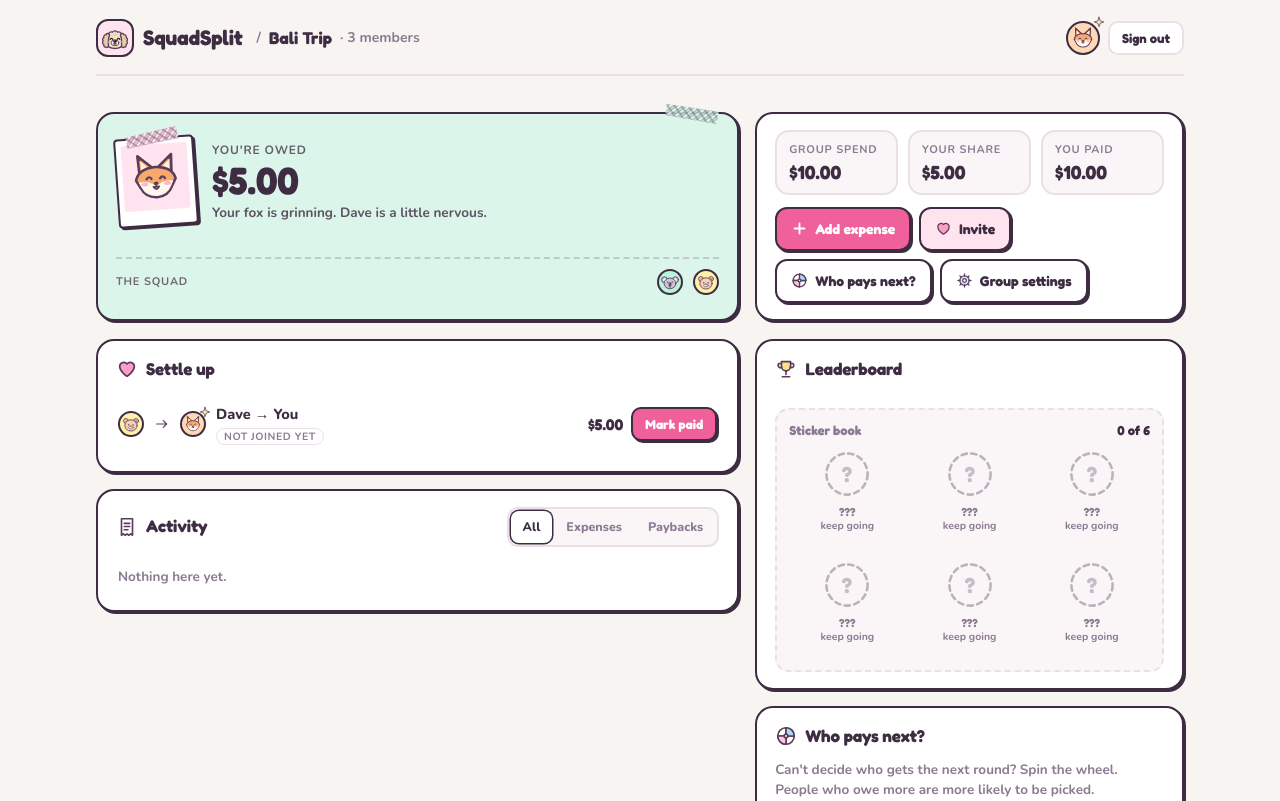
Test: Your mix with someone who has not joined › celebrates recording that they paid you, and stamps the new payback in the feed
Click the button "Mark paid" at x=674, y=424, box left=631, top=407, right=717, bottom=441
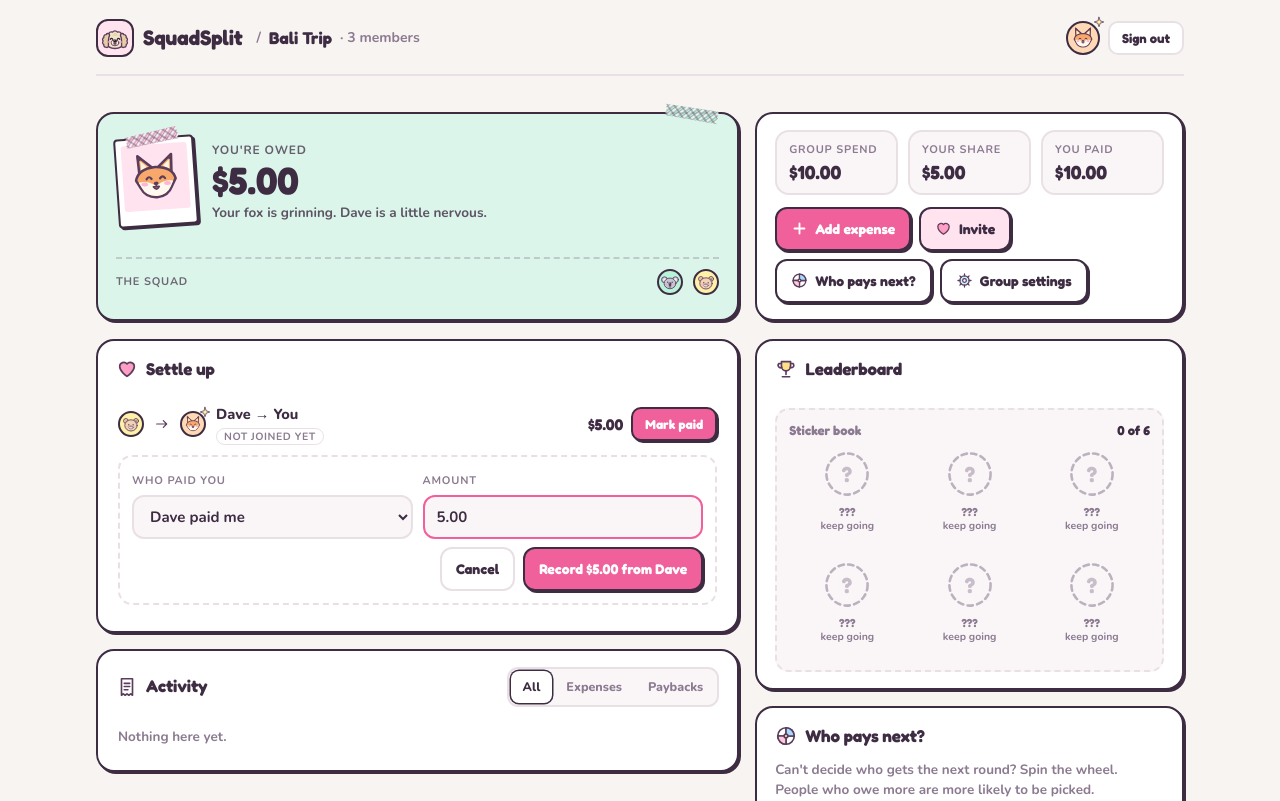
Click the button "Record $5.00 from Dave" at x=613, y=569, box left=523, top=547, right=703, bottom=591
(page scrolled)
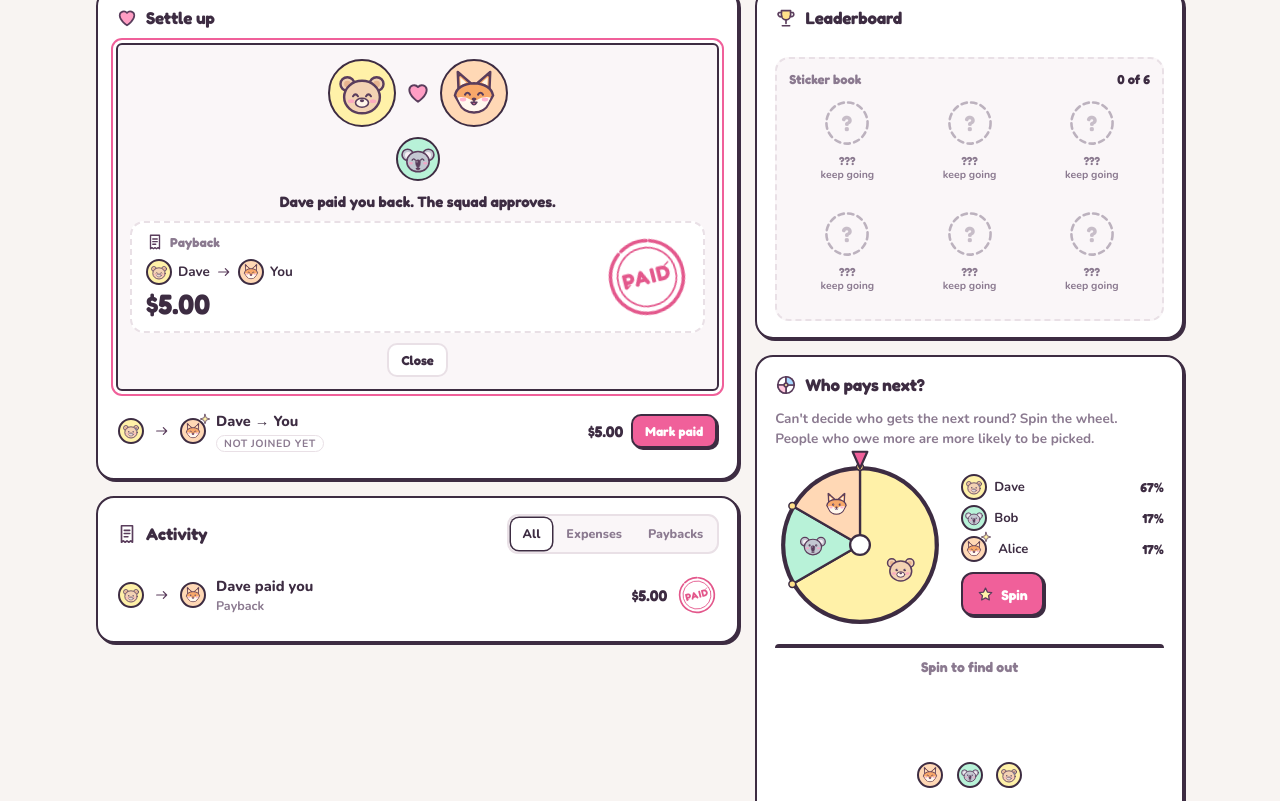
Now the element named "Payback confirmed" shows "Dave paid you back. The squad approves.", box left=116, top=43, right=719, bottom=391
Now the text with class "slip-amt" reads "$5.00", box left=146, top=287, right=210, bottom=321
Now the 1st icon with class "mascot-bear" is shown, box left=336, top=67, right=388, bottom=119
